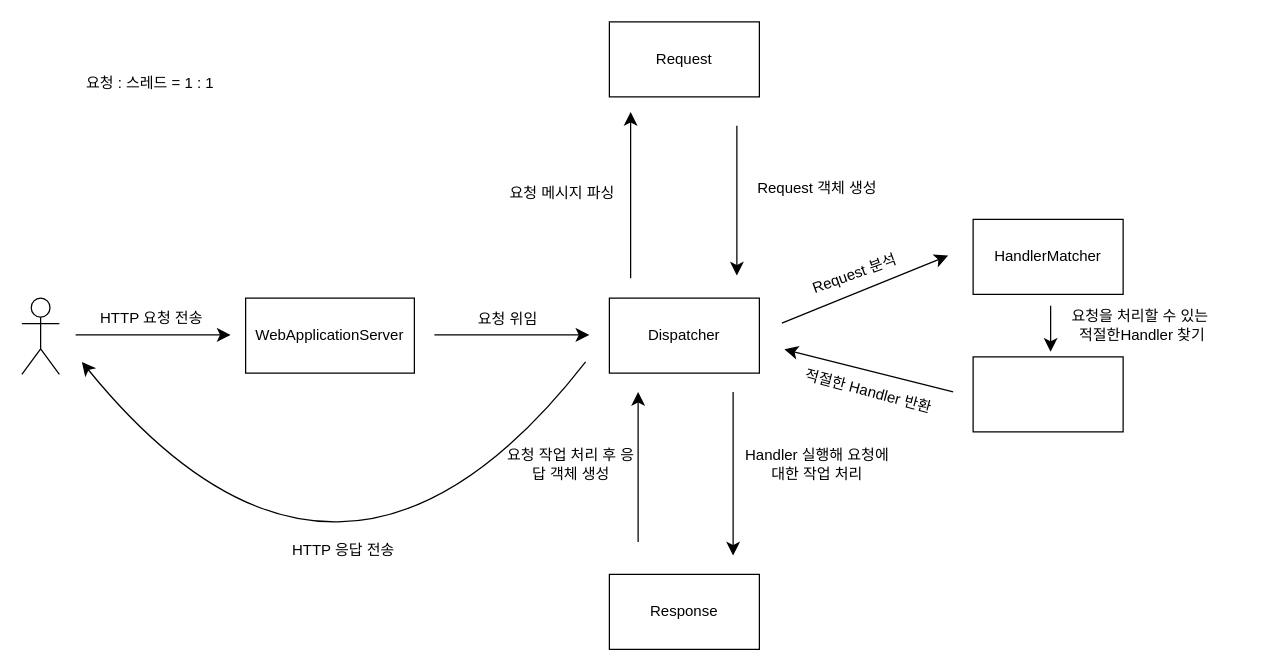
This 1261x671 diagram has some shape labels left out. Each missing label, with the centre of its shape:
Client: (40,335)
Handler: (1047,394)
